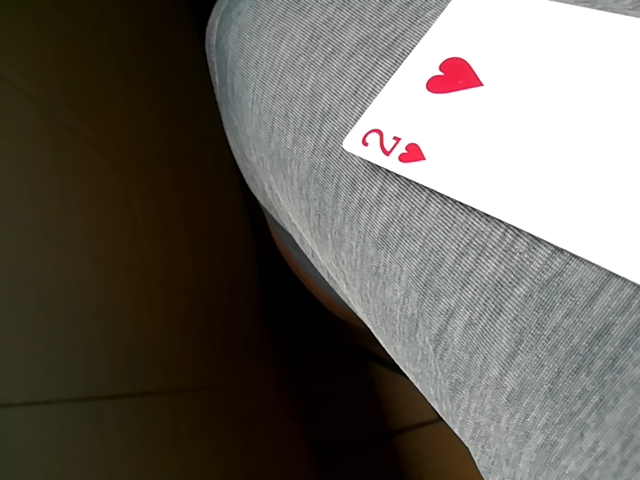hx 2: (339, 4, 640, 297)
